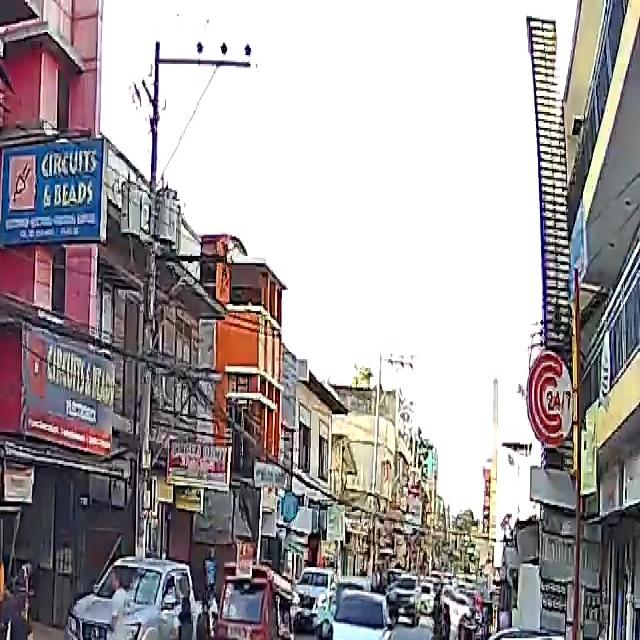car: (71, 554, 197, 640), (321, 588, 393, 640), (385, 574, 430, 626), (470, 627, 640, 640), (294, 572, 336, 610)
